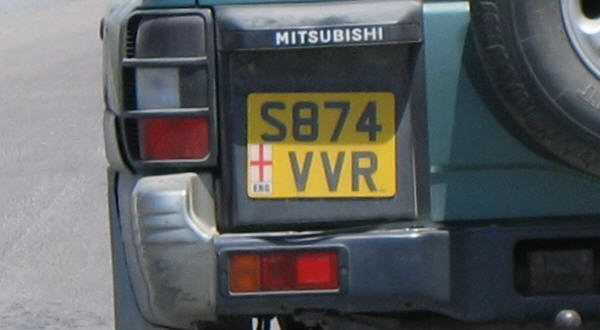license_plate: (246, 90, 396, 198)
